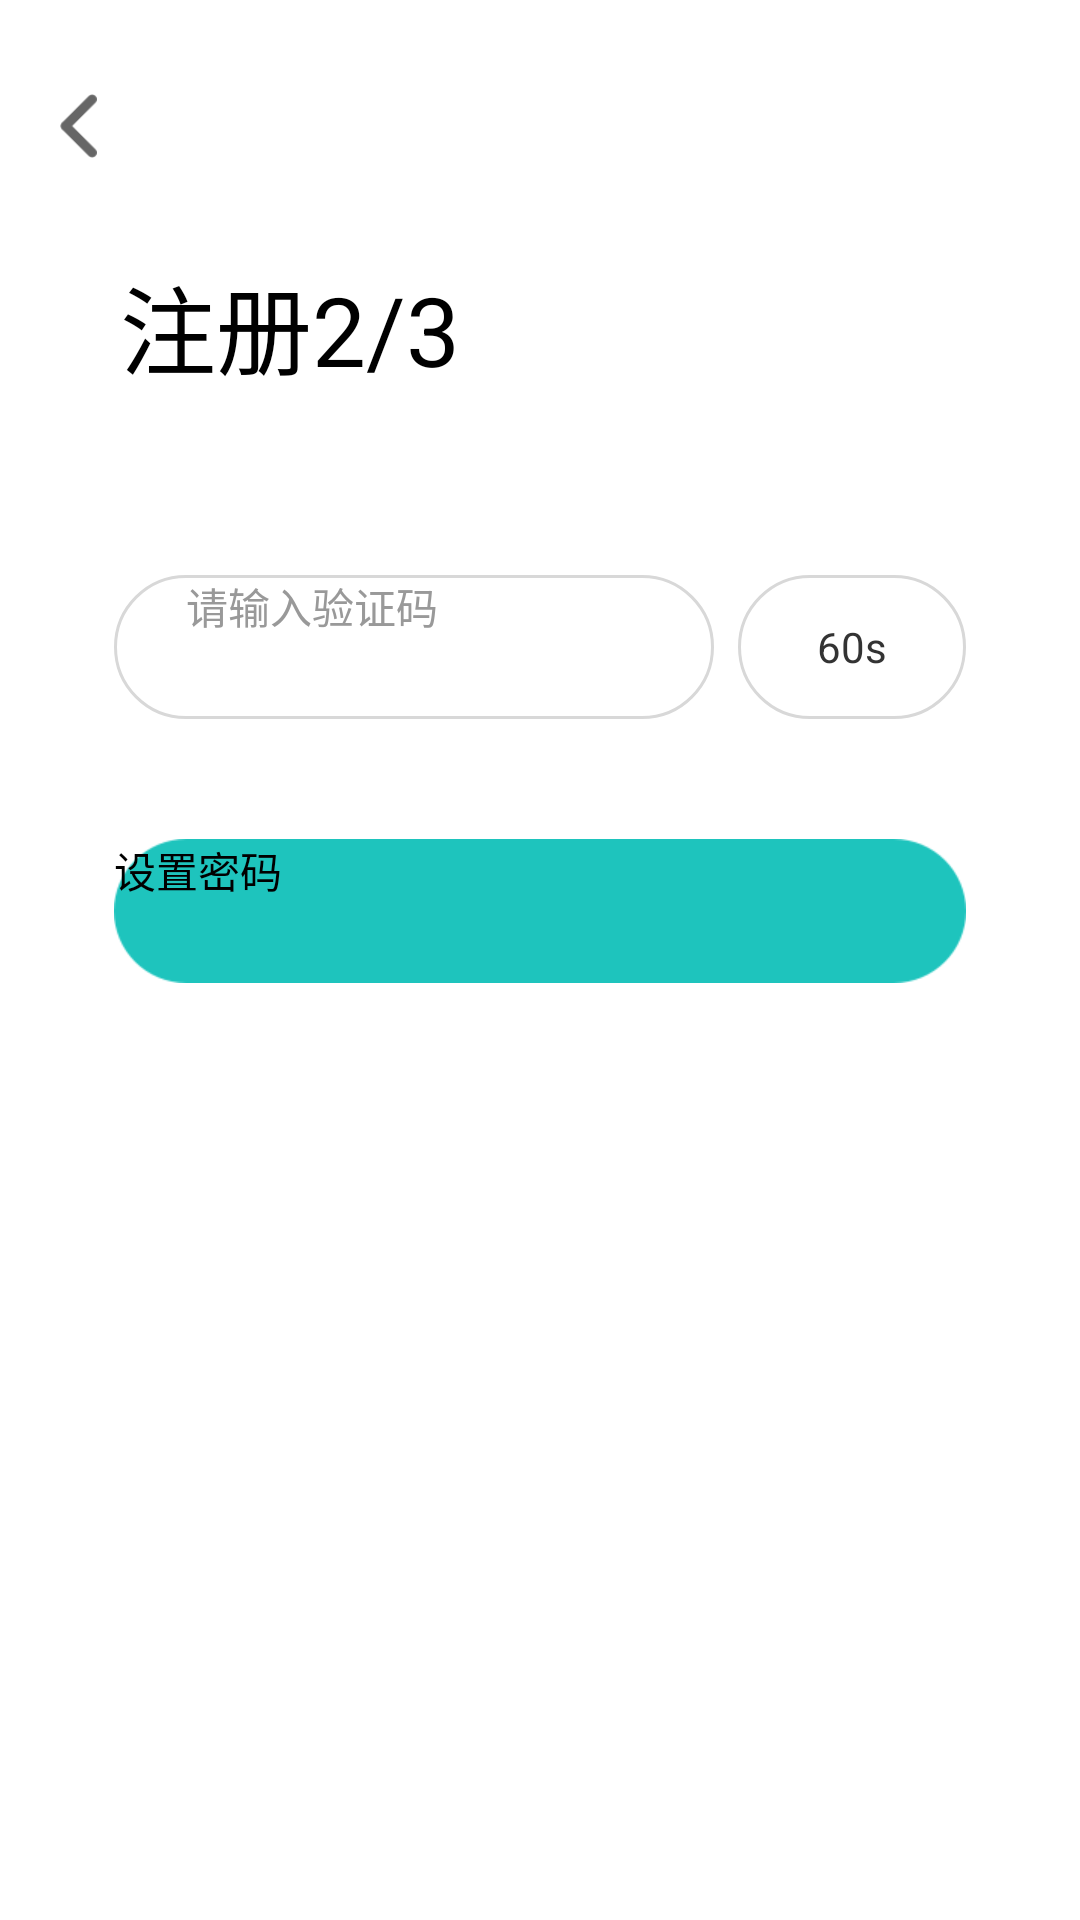

Screen size 1080×1920. Icon name, then its center in pixels as point (x, y):
back register: point (78, 126)
